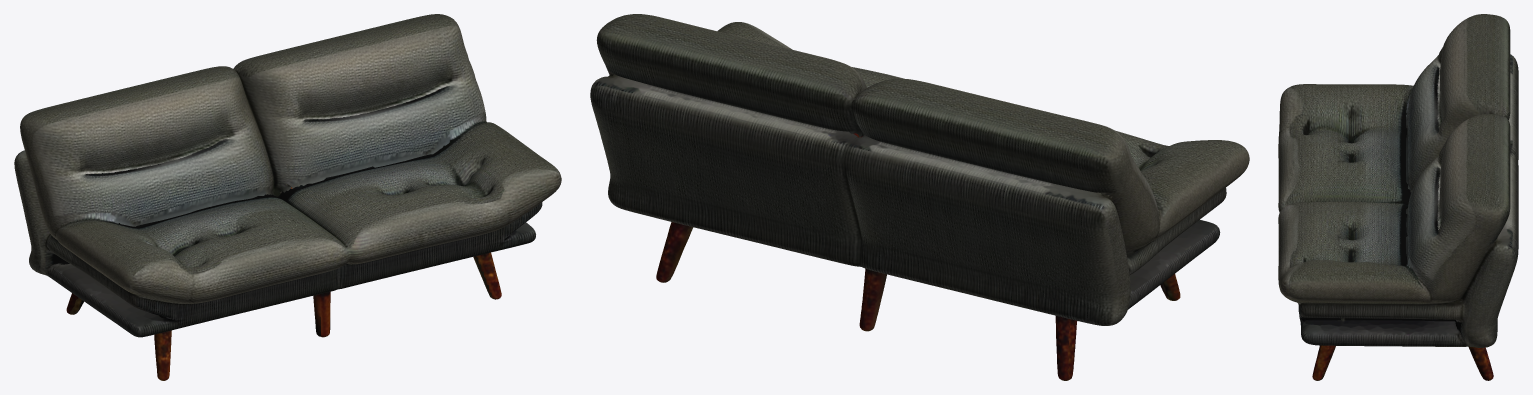
The model's file is couch__couch#3.glb.
3 views of the same model, side by side, from view 1: azimuth 30°, elevation 25°; view 2: azimuth 150°, elevation 25°; view 3: azimuth 270°, elevation 25° (orthographic). The views are drawn at different scales.
Visible parts, largest first — view 1: tmpbi5bv0ca.ply; view 2: tmpbi5bv0ca.ply; view 3: tmpbi5bv0ca.ply.
Boxes of the visible parts, x1,y1,x2,y2 form: tmpbi5bv0ca.ply: (14, 14, 561, 380); tmpbi5bv0ca.ply: (590, 14, 1249, 380); tmpbi5bv0ca.ply: (1278, 14, 1518, 380).
Size of the model in its own units: 1.99 by 0.9149 by 1.01.
1 material, 1 textured.
